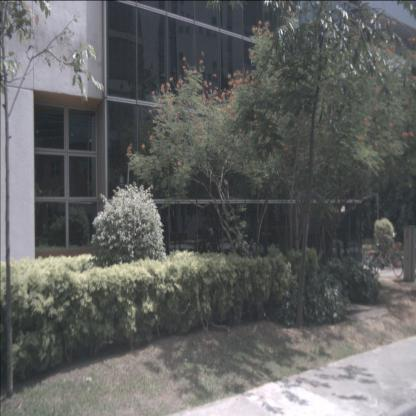vehicle-bicycle: (365, 232, 404, 277)
